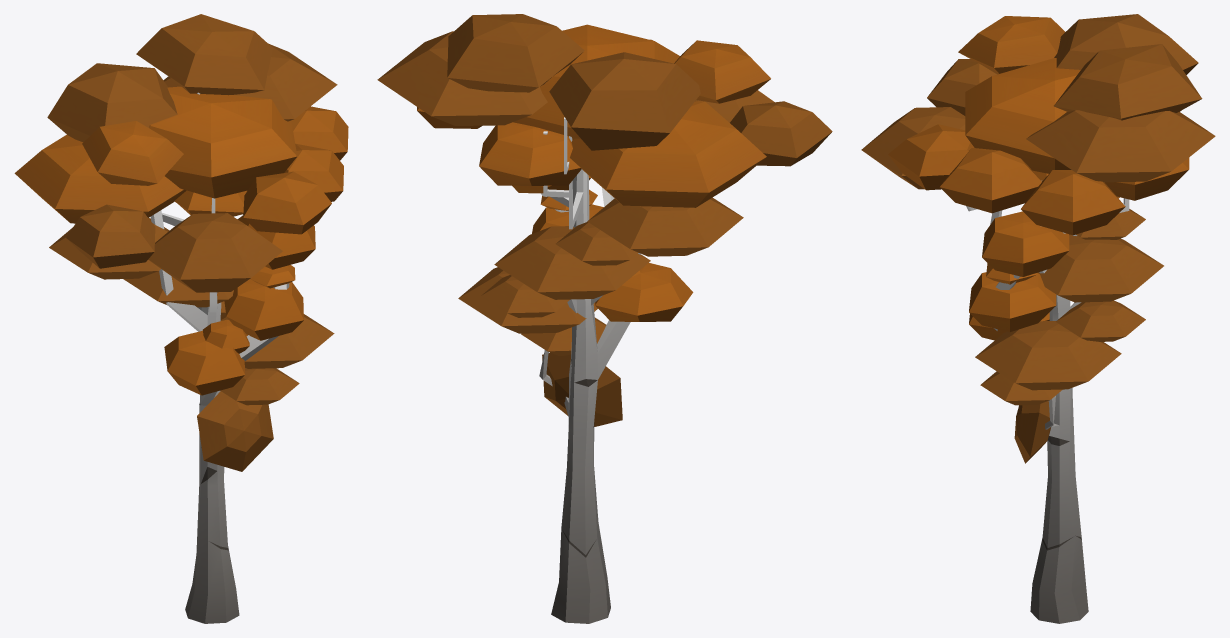
The model's file is arbol3.fbx.
3 renders of one model, left to right at view 1: azimuth 30°, elevation 25°; view 2: azimuth 150°, elevation 25°; view 3: azimuth 270°, elevation 25°, orthographic. The views are drawn at different scales.
Parts seen in each view (by area): view 1: arbol3; view 2: arbol3; view 3: arbol3.
Part boxes in pixels (box(x1,y1,x2,y2)): arbol3: box(14, 14, 348, 623); arbol3: box(377, 14, 832, 623); arbol3: box(861, 14, 1215, 623).
Size of the model in its own units: 1420 by 2356 by 1332.
